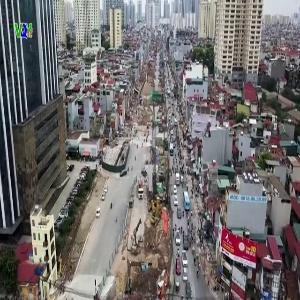drone: (17, 250, 56, 289)
